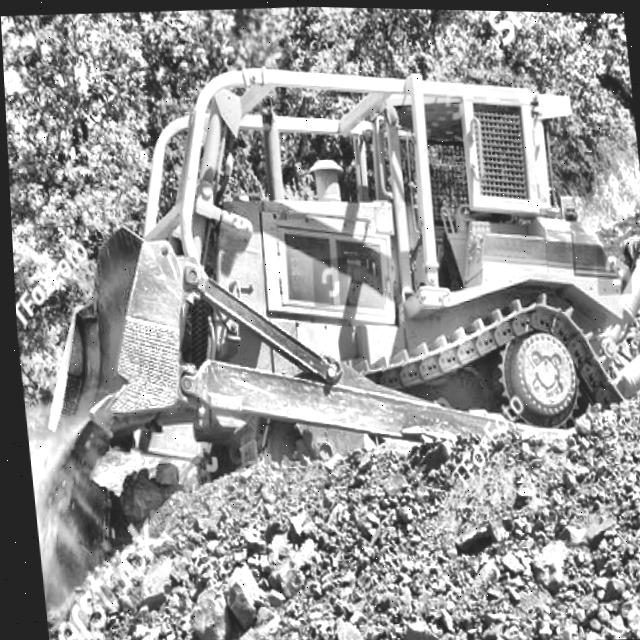buldozerpayloadergrader: (0, 9, 640, 640)
